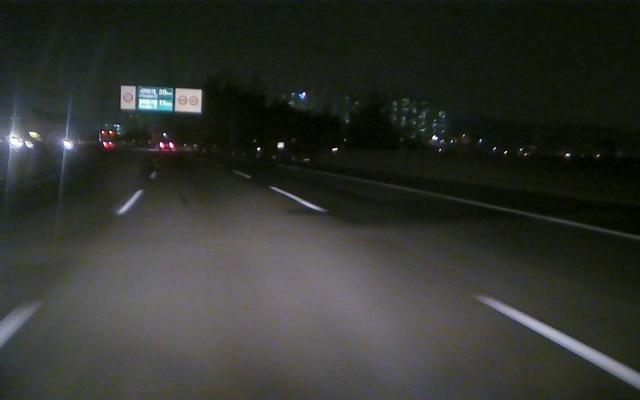lane: (235, 169, 640, 390), (0, 189, 146, 351), (343, 175, 639, 241)
